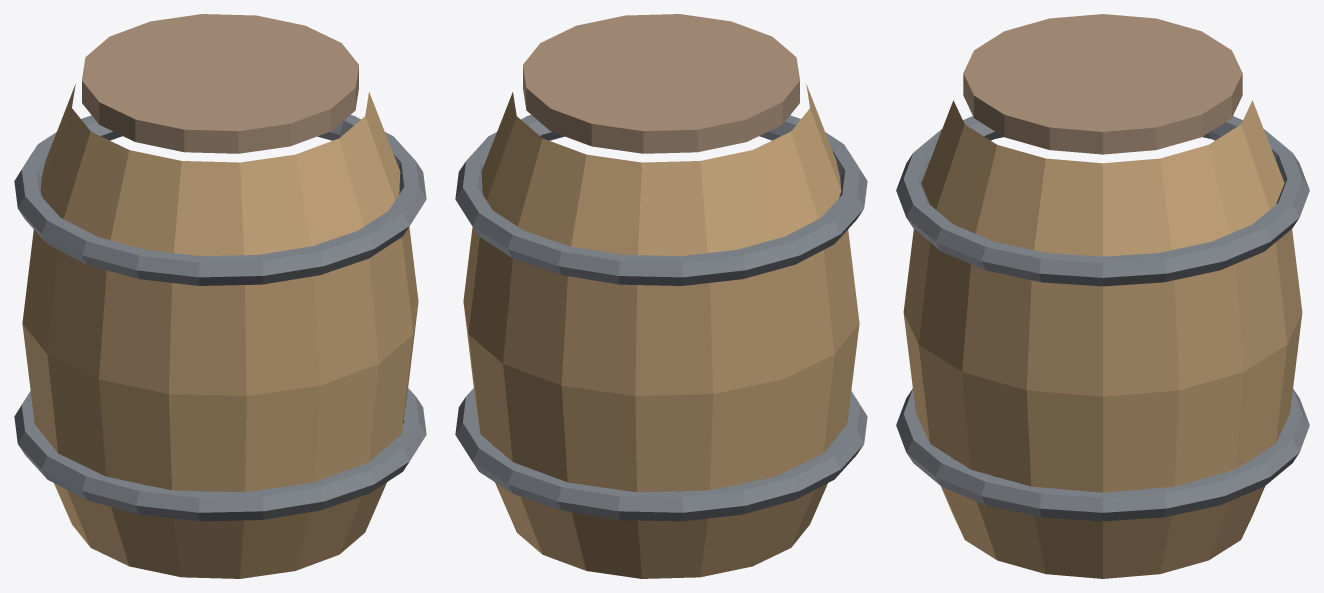
The model's file is barrel.glb.
The picture shows the model from 3 angles, left to right: view 1: azimuth 30°, elevation 25°; view 2: azimuth 150°, elevation 25°; view 3: azimuth 270°, elevation 25°; orthographic projection.
Parts seen in each view (by area): view 1: Barrel, Lid; view 2: Barrel, Lid; view 3: Barrel, Lid.
Part boxes in pixels (box(x1,y1,x2,y2)): Barrel: box(14, 84, 426, 578); Lid: box(82, 14, 358, 153); Barrel: box(455, 84, 867, 578); Lid: box(523, 14, 799, 153); Barrel: box(896, 100, 1309, 578); Lid: box(963, 14, 1242, 154).
Bounding box in the file's own units: 0.83 × 0.98 × 0.83.
